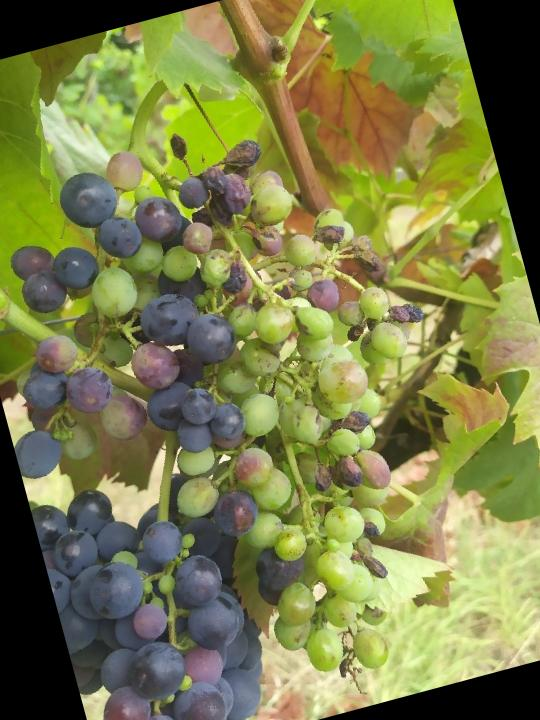grape: (0, 84, 510, 720)
